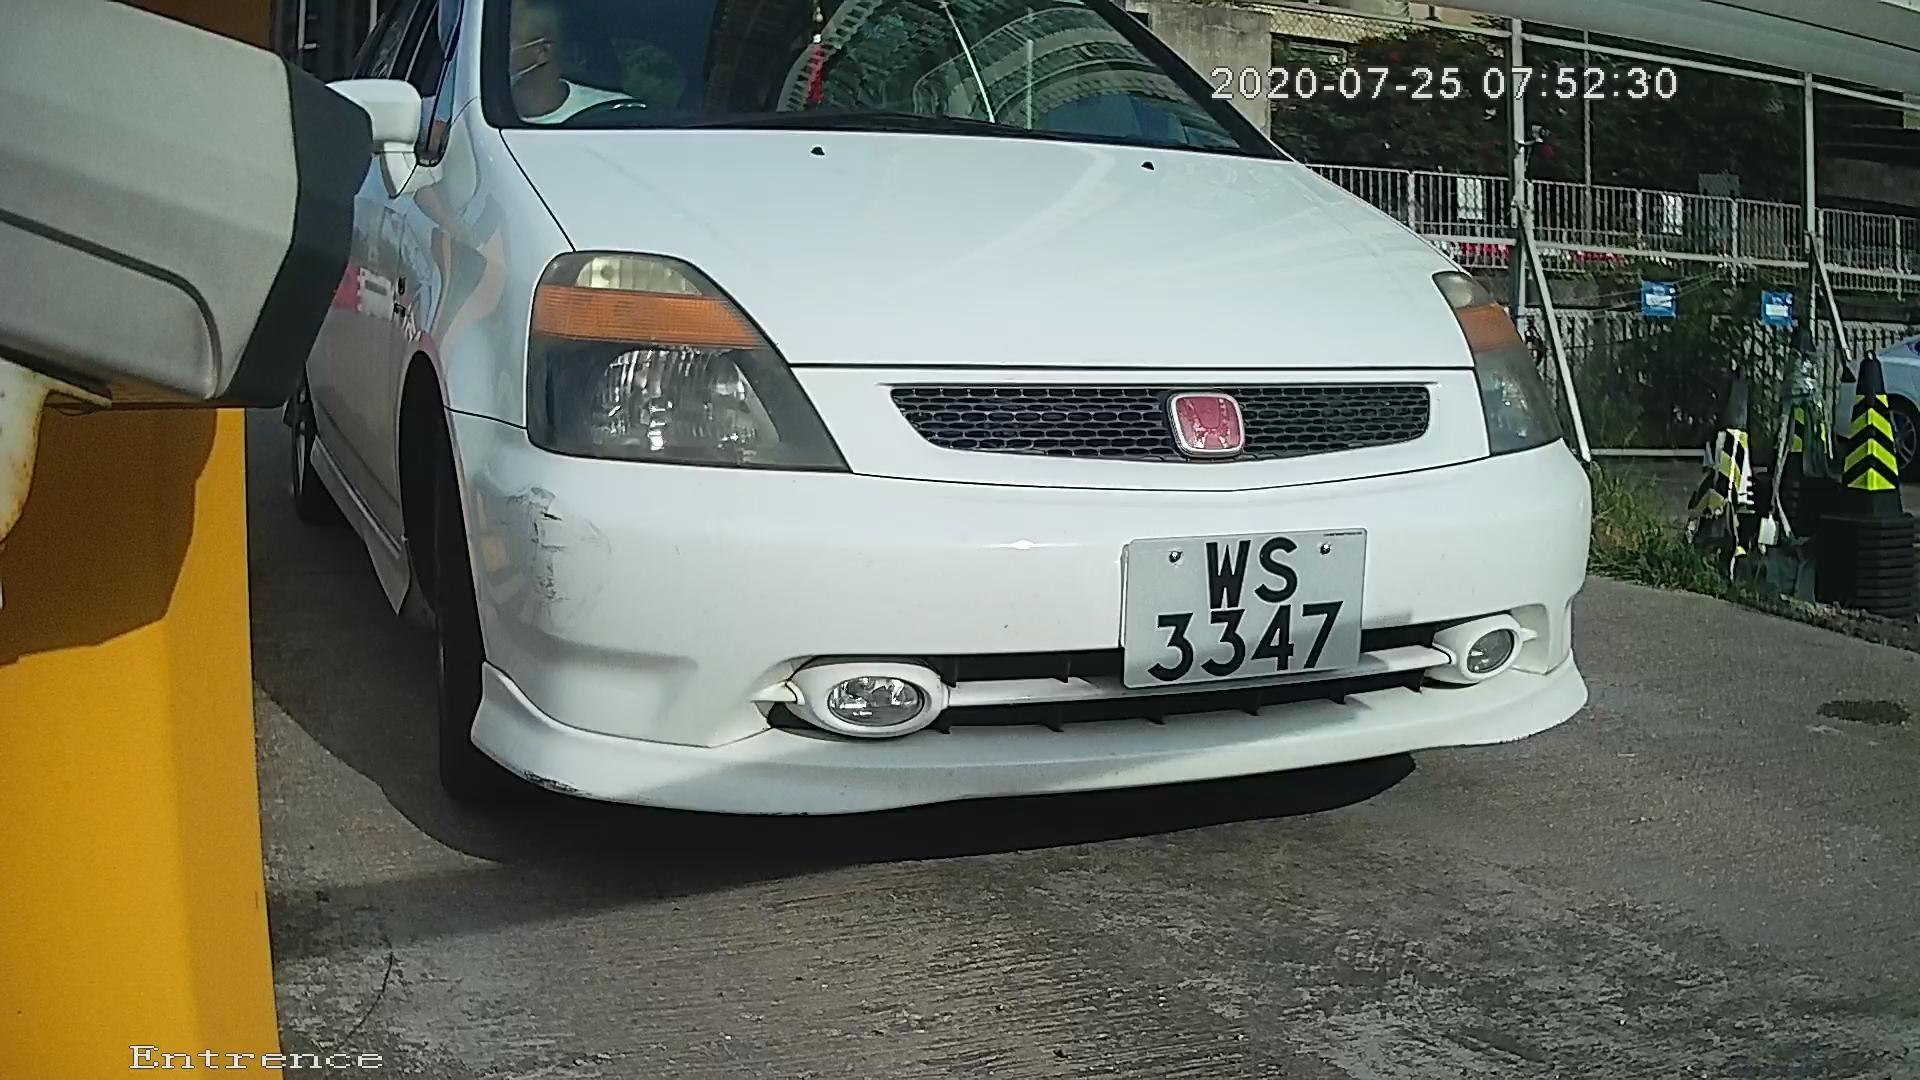Car: (146, 1, 1732, 873)
License Plate: (1106, 512, 1406, 709)
